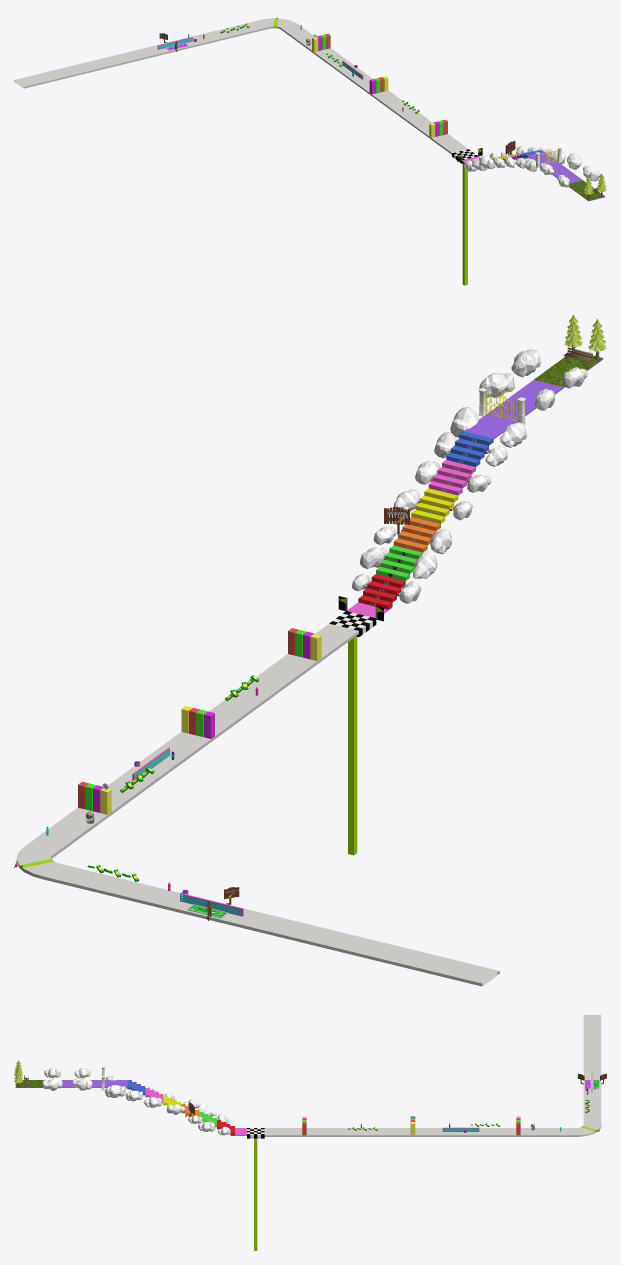
The model's file is level.fbx.
3 views of the same model, one above another, from view 1: azimuth 30°, elevation 25°; view 2: azimuth 150°, elevation 25°; view 3: azimuth 270°, elevation 25° (orthographic). The views are drawn at different scales.
Visible parts, largest first — view 1: road, Cloud_cumulus, finish, Heaven_Road; view 2: road, Cloud_cumulus, finish, Heaven_Road; view 3: road, Cloud_cumulus, finish, Heaven_Road.
Boxes of the visible parts, x1,y1,x2,y2 form: road: (14, 18, 468, 154); Cloud_cumulus: (464, 146, 600, 187); finish: (452, 148, 482, 285); Heaven_Road: (527, 151, 604, 201); road: (16, 623, 499, 986); Cloud_cumulus: (352, 349, 587, 603); finish: (329, 596, 392, 855); Heaven_Road: (463, 358, 603, 439); road: (264, 1015, 601, 1136); Cloud_cumulus: (42, 1067, 230, 1135); finish: (230, 1128, 264, 1250); Heaven_Road: (16, 1080, 127, 1087).
Size of what is drawn, in the model's own units: 8685 by 6016 by 17280.
Materials: 33 (17 with a texture image).
